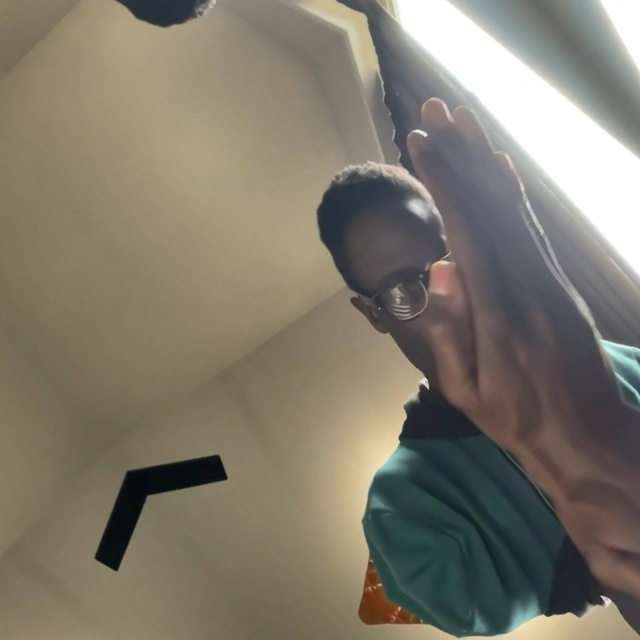Paper: (0, 0, 317, 52)
